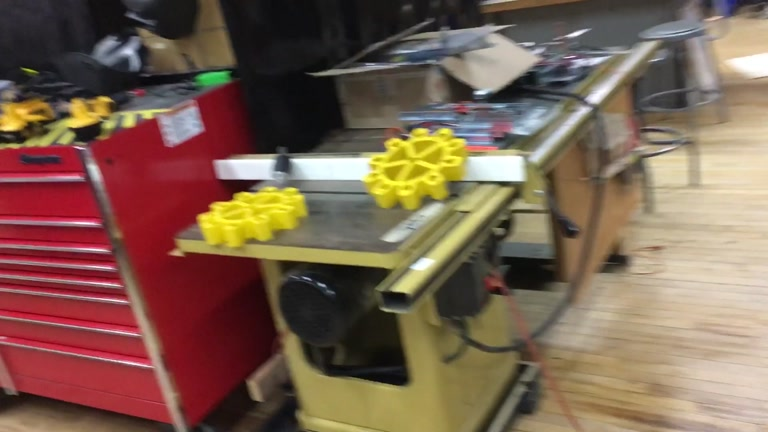gear: (363, 126, 467, 210), (197, 185, 309, 248)
